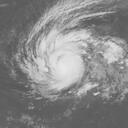cyclone: (16, 15, 101, 101)
